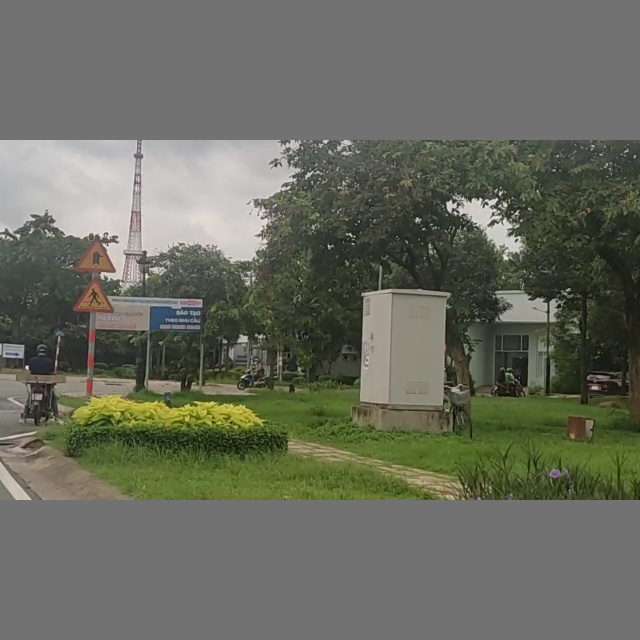W.207: (75, 237, 116, 272)
W.224: (73, 278, 117, 312)
